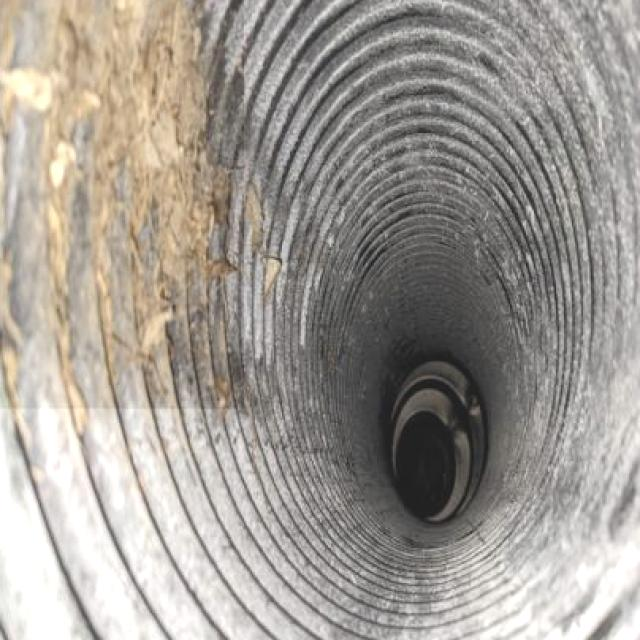dirt: (8, 15, 231, 408)
